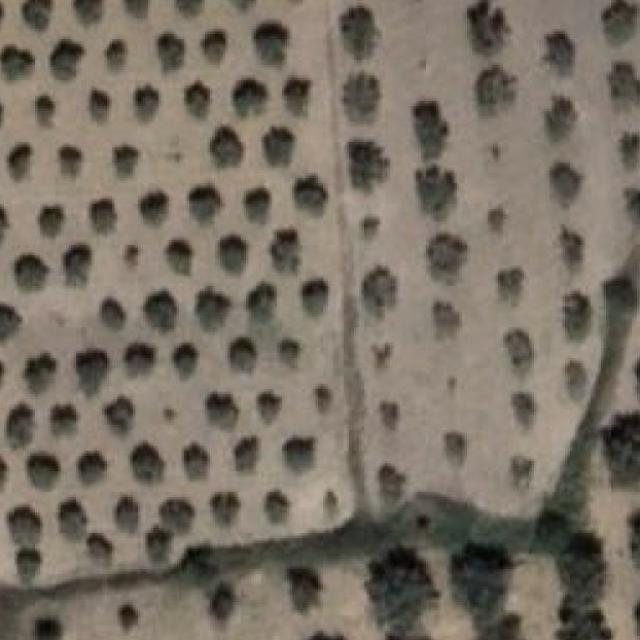Tree: (446, 540, 514, 613), (368, 552, 433, 626), (560, 538, 608, 602), (468, 60, 519, 117), (607, 412, 640, 488), (461, 3, 510, 54), (412, 163, 457, 217), (401, 101, 444, 154), (342, 137, 390, 183), (275, 567, 325, 611), (423, 229, 467, 279), (548, 607, 614, 640), (345, 11, 385, 60), (172, 542, 216, 586), (358, 263, 397, 309), (550, 162, 586, 209), (342, 74, 380, 118), (470, 610, 524, 640), (538, 32, 577, 73), (544, 96, 578, 142), (372, 466, 412, 505), (210, 124, 246, 166), (434, 430, 472, 469), (160, 497, 197, 537), (194, 289, 232, 327), (184, 186, 222, 224), (130, 440, 166, 480), (608, 62, 640, 107), (10, 253, 48, 290), (46, 399, 84, 436), (264, 235, 302, 272), (213, 232, 248, 272), (532, 512, 568, 550), (202, 584, 238, 622), (92, 296, 128, 334), (48, 39, 86, 75), (254, 27, 289, 66), (12, 0, 58, 29), (24, 454, 60, 490), (232, 78, 268, 114), (294, 181, 330, 217), (602, 0, 635, 39), (6, 404, 35, 448), (5, 508, 40, 544), (152, 34, 188, 69), (556, 230, 586, 272), (207, 490, 241, 527), (298, 281, 332, 318), (103, 394, 136, 432), (429, 294, 462, 332), (162, 236, 196, 272), (500, 328, 531, 367), (560, 296, 590, 336), (204, 389, 238, 424), (284, 435, 318, 469), (77, 348, 110, 383), (132, 82, 164, 118), (198, 29, 230, 65), (240, 188, 272, 224), (144, 293, 178, 326), (0, 44, 33, 78), (245, 281, 277, 316), (86, 202, 114, 242), (9, 548, 40, 584), (113, 495, 140, 536), (125, 340, 154, 378), (74, 449, 109, 480), (170, 342, 200, 378), (54, 502, 84, 538), (507, 389, 534, 429), (381, 622, 440, 640), (26, 350, 58, 383), (140, 528, 169, 564), (478, 204, 506, 241), (180, 80, 212, 112), (605, 276, 637, 308), (253, 389, 284, 422), (228, 334, 258, 368), (562, 361, 590, 397), (110, 142, 140, 175), (32, 202, 63, 233), (62, 245, 94, 275), (58, 146, 88, 178), (264, 492, 292, 526), (284, 77, 312, 111), (100, 36, 128, 70), (234, 435, 263, 467), (185, 444, 212, 478), (71, 0, 107, 25), (504, 456, 536, 484), (266, 129, 294, 161), (616, 132, 640, 168), (140, 194, 168, 224), (112, 603, 143, 630), (5, 142, 32, 172), (276, 336, 304, 364), (379, 394, 402, 428), (495, 266, 521, 296), (31, 618, 63, 640), (86, 538, 112, 565), (360, 207, 385, 234), (321, 490, 344, 518), (312, 378, 333, 408), (86, 94, 112, 118), (630, 512, 640, 572), (0, 303, 18, 336), (123, 0, 157, 17), (34, 94, 56, 120), (629, 591, 640, 640), (225, 0, 254, 17), (297, 633, 359, 640), (633, 350, 640, 411), (631, 185, 640, 230), (0, 201, 10, 240), (181, 0, 210, 13)
